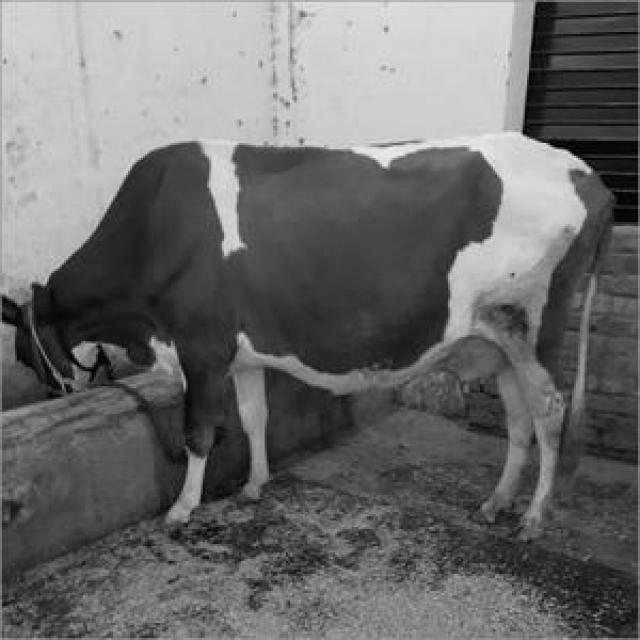cow: (2, 132, 612, 538)
